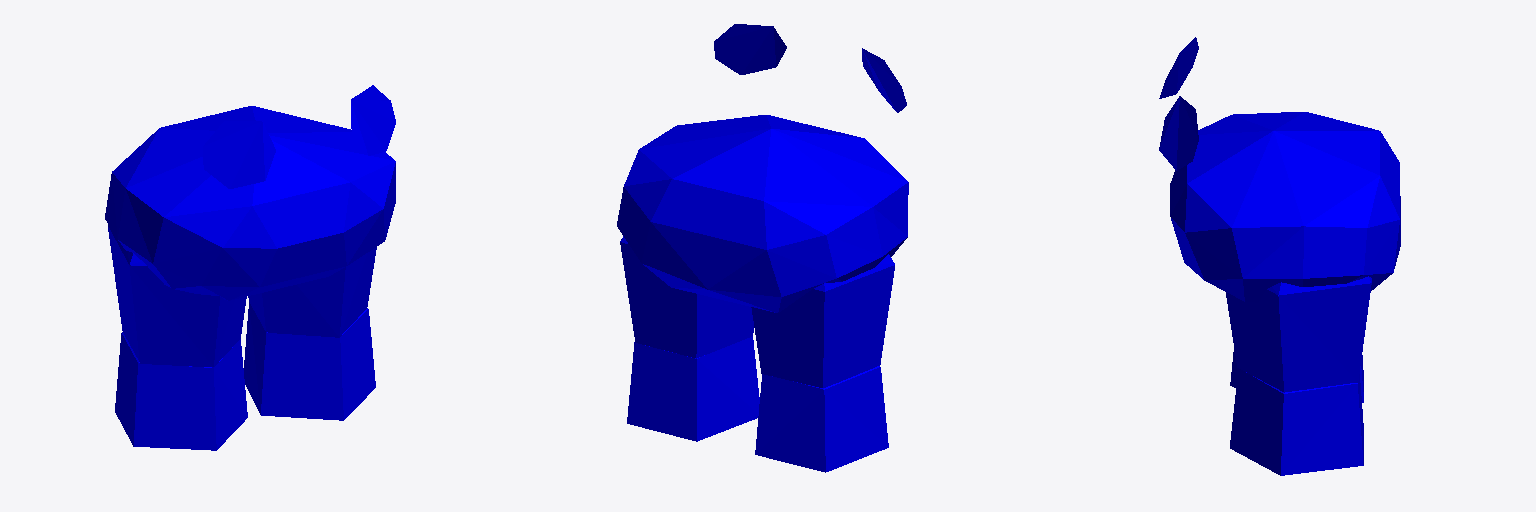
The model's file is bluebody.obj.
The picture shows the model from 3 angles: view 1: azimuth 30°, elevation 25°; view 2: azimuth 150°, elevation 25°; view 3: azimuth 270°, elevation 25°; orthographic projection.
Parts seen in each view (by area): view 1: Abdomen, Right_Lower_Leg, Left_Lower_Leg, Right_Upper_Leg, Left_Upper_Leg, Buttons; view 2: Abdomen, Right_Upper_Leg, Right_Lower_Leg, Left_Lower_Leg, Left_Upper_Leg, Buttons; view 3: Abdomen, Left_Upper_Leg, Left_Lower_Leg, Buttons.
Boxes of the visible parts, <box> form: Abdomen: <box>105,106,395,300</box>; Right_Lower_Leg: <box>115,332,247,450</box>; Left_Lower_Leg: <box>244,302,375,420</box>; Right_Upper_Leg: <box>108,225,246,367</box>; Left_Upper_Leg: <box>248,247,376,337</box>; Buttons: <box>203,85,395,188</box>; Abdomen: <box>617,115,908,312</box>; Right_Upper_Leg: <box>751,254,894,387</box>; Right_Lower_Leg: <box>755,366,888,472</box>; Left_Lower_Leg: <box>627,336,759,441</box>; Left_Upper_Leg: <box>620,236,753,358</box>; Buttons: <box>714,24,906,112</box>; Abdomen: <box>1170,112,1400,302</box>; Left_Upper_Leg: <box>1226,276,1371,392</box>; Left_Lower_Leg: <box>1230,368,1363,475</box>; Buttons: <box>1159,37,1198,170</box>.
Size of the model in its own units: 79.61 by 110 by 65.69.